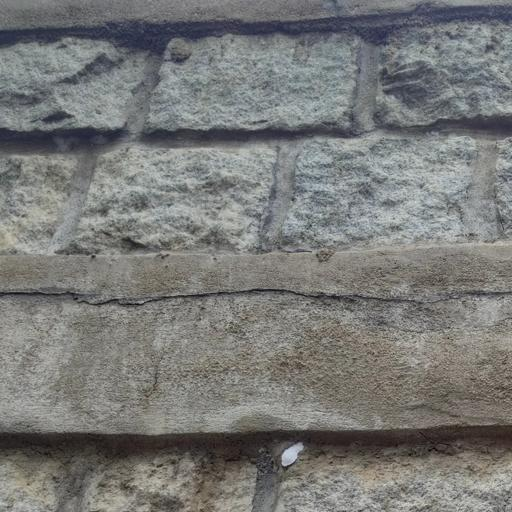minor_crack: (0, 266, 512, 318)
